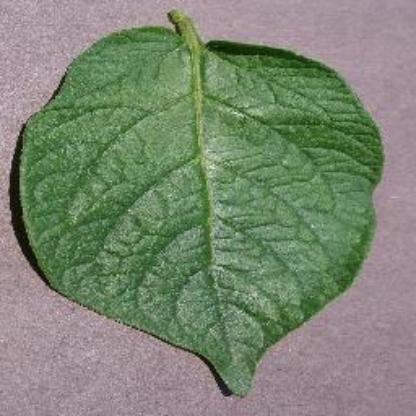Healthy-plant: (12, 10, 378, 402)
